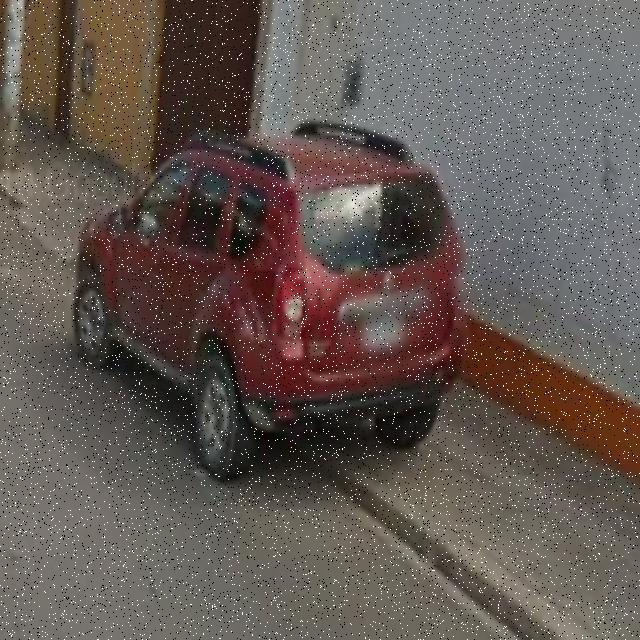cars: (68, 114, 463, 483)
